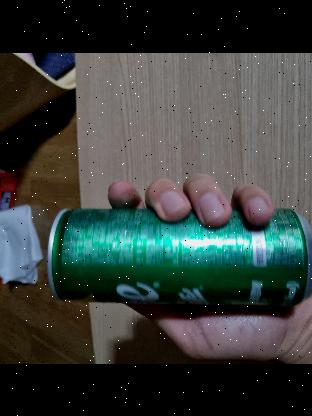Can: (41, 199, 312, 304)
